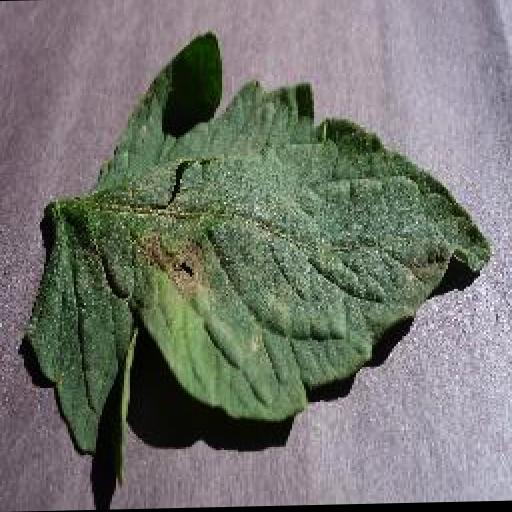Early Blight: (24, 26, 492, 455)
